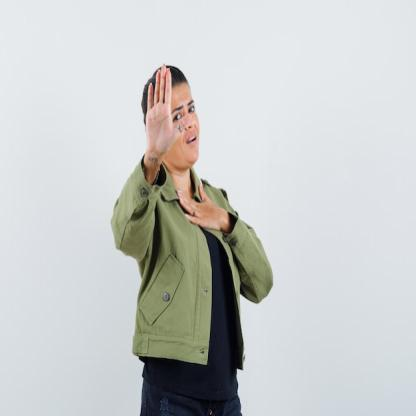stop: (142, 60, 194, 163)
